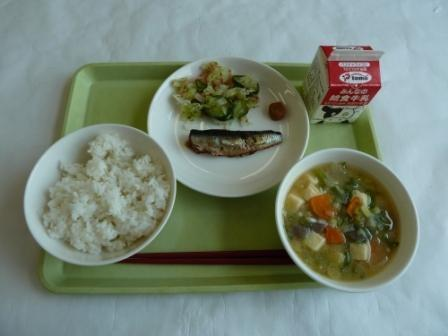Fish: (165, 53, 259, 126), (177, 114, 289, 166)
Milk: (295, 36, 390, 131)
Rice: (33, 131, 165, 256)
Soups: (283, 153, 405, 283)
